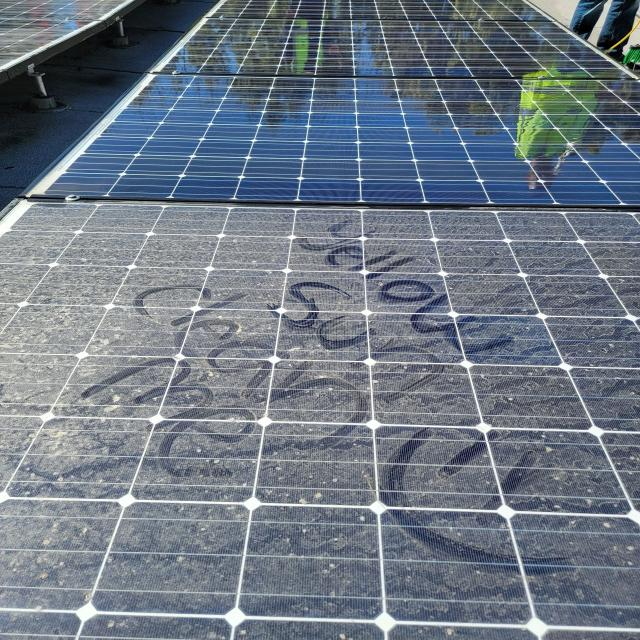dust-solar-panel: (0, 199, 640, 640)
